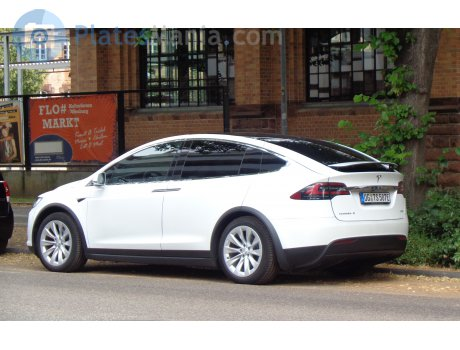License Plates: (362, 194, 389, 204)
